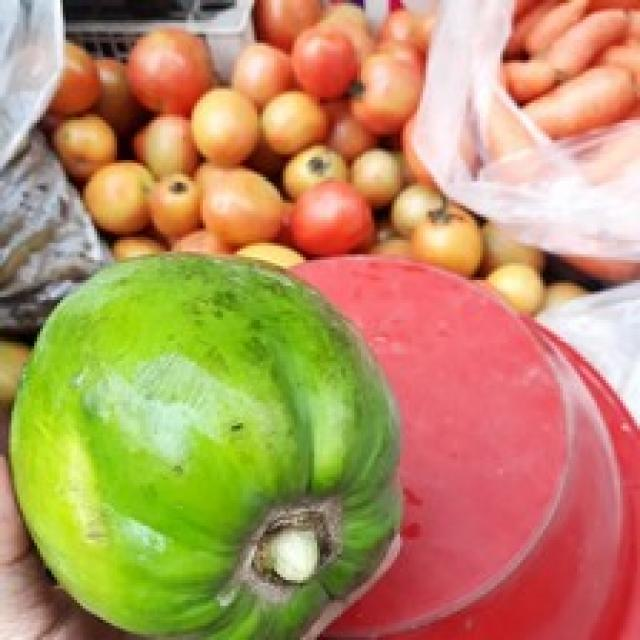Pepaya unrippen: (16, 248, 416, 640)
